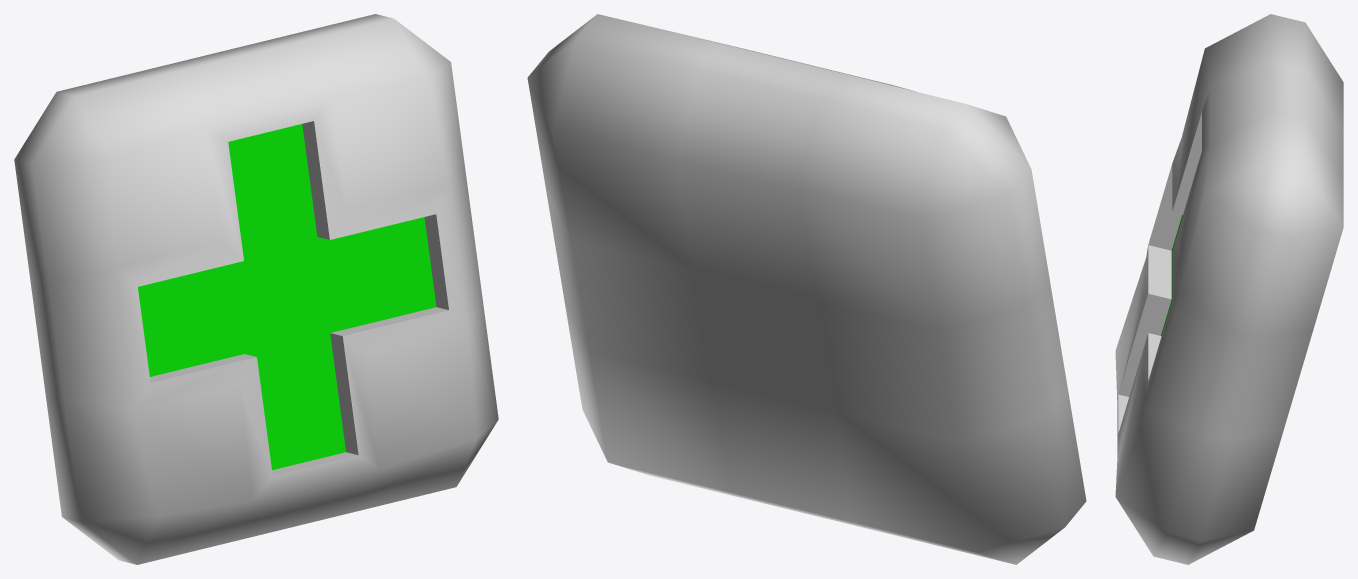
Rendered from Medkit2.fbx.
3 renders of one model, left to right at view 1: azimuth 30°, elevation 25°; view 2: azimuth 150°, elevation 25°; view 3: azimuth 270°, elevation 25°, orthographic. The views are drawn at different scales.
Visible parts, largest first — view 1: Cube.119; view 2: Cube.119; view 3: Cube.119.
Boxes of the visible parts, left/top/right/bottom form: Cube.119: left=14, top=14, right=498, bottom=564; Cube.119: left=527, top=14, right=1086, bottom=564; Cube.119: left=1115, top=14, right=1343, bottom=564.
Size of the model in its own units: 600 by 592 by 302.
